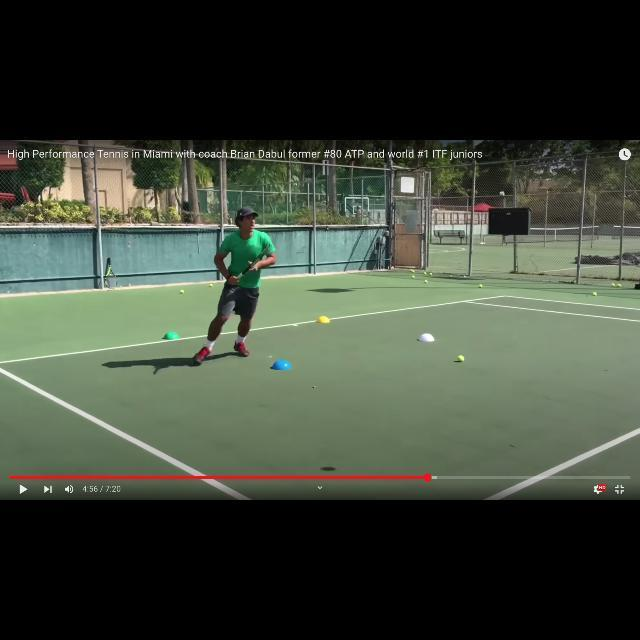tennis-ball: (457, 355, 464, 362), (610, 283, 614, 287), (180, 289, 184, 293), (592, 292, 596, 296), (429, 273, 432, 276), (412, 276, 415, 279), (425, 280, 428, 283), (210, 284, 213, 287), (618, 284, 621, 287), (479, 285, 482, 288), (412, 271, 414, 273), (424, 272, 426, 274)
